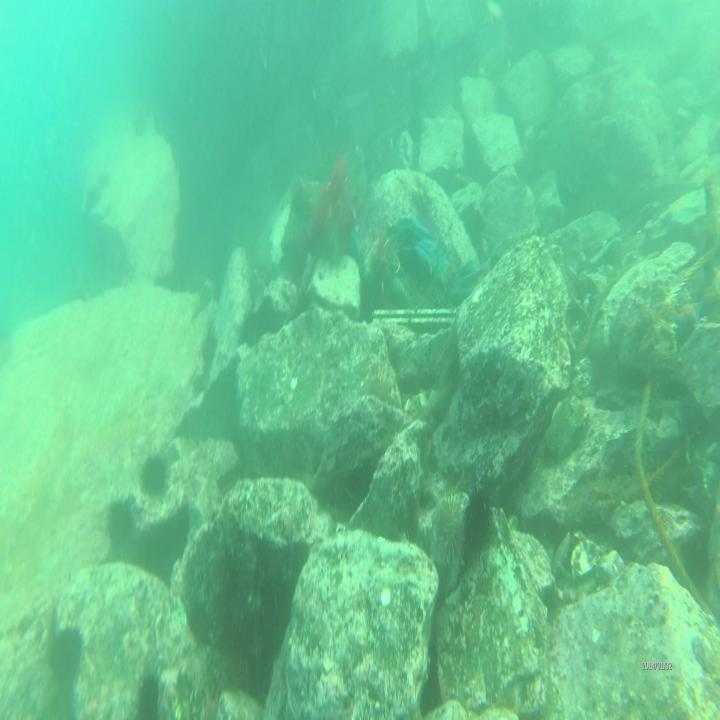echinus: (433, 485, 468, 556), (466, 484, 494, 554), (48, 626, 83, 681), (104, 493, 137, 547), (139, 450, 169, 499), (137, 669, 163, 720)
starfish: (670, 286, 704, 333)
